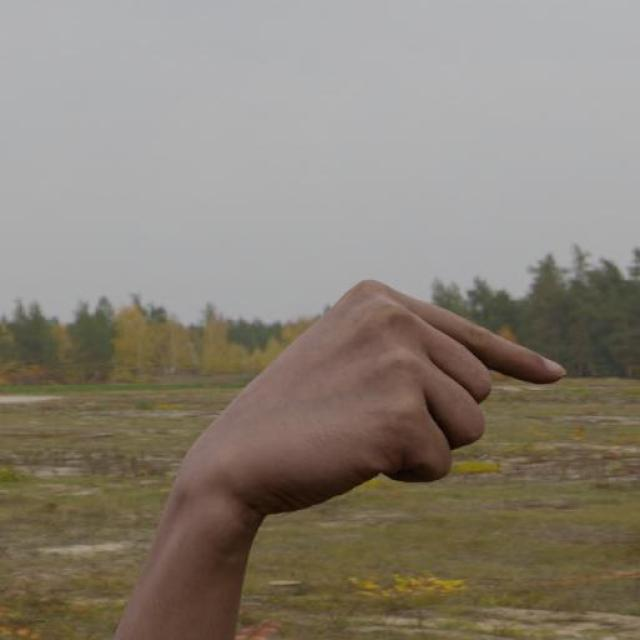G: (169, 274, 571, 518)
